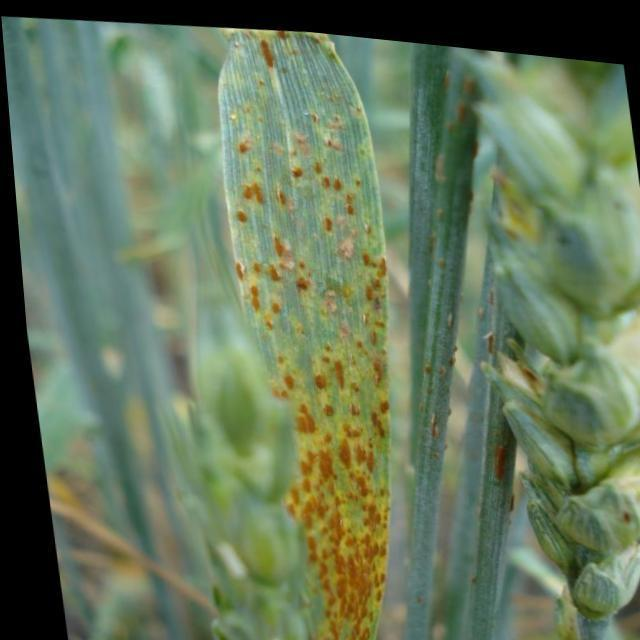Stem Rust: (214, 22, 383, 639)
